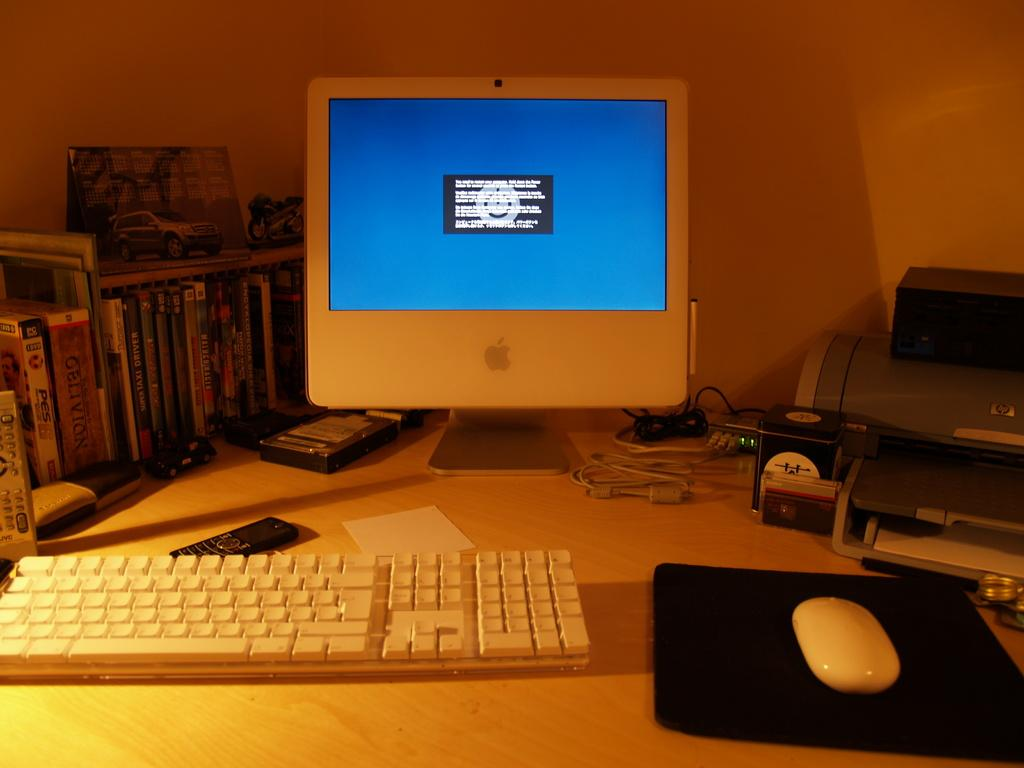Computer-keyboard: (0, 546, 589, 678)
Computer-monitor: (289, 77, 703, 449)
